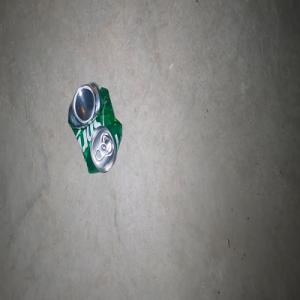SodaCan: (67, 81, 122, 173)
